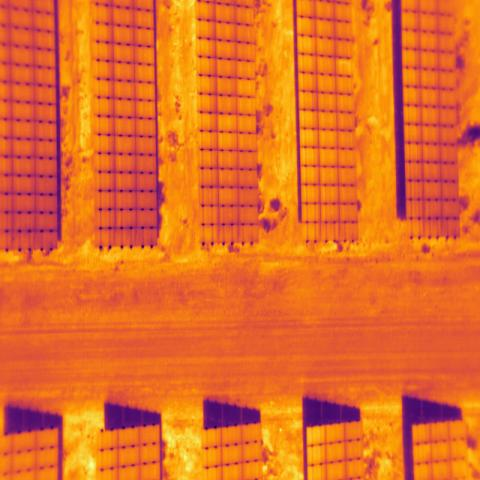fault: (335, 56, 354, 77)
